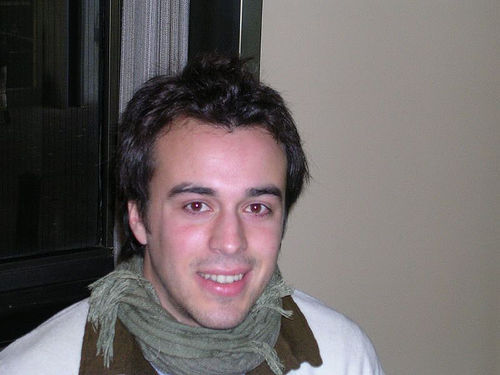without_mask: (118, 87, 314, 335)
